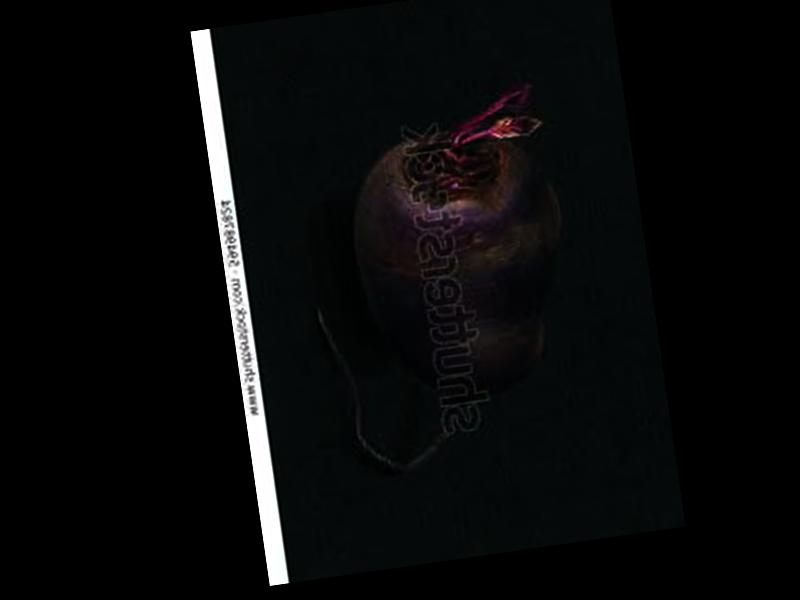Beet: (288, 72, 595, 479)
